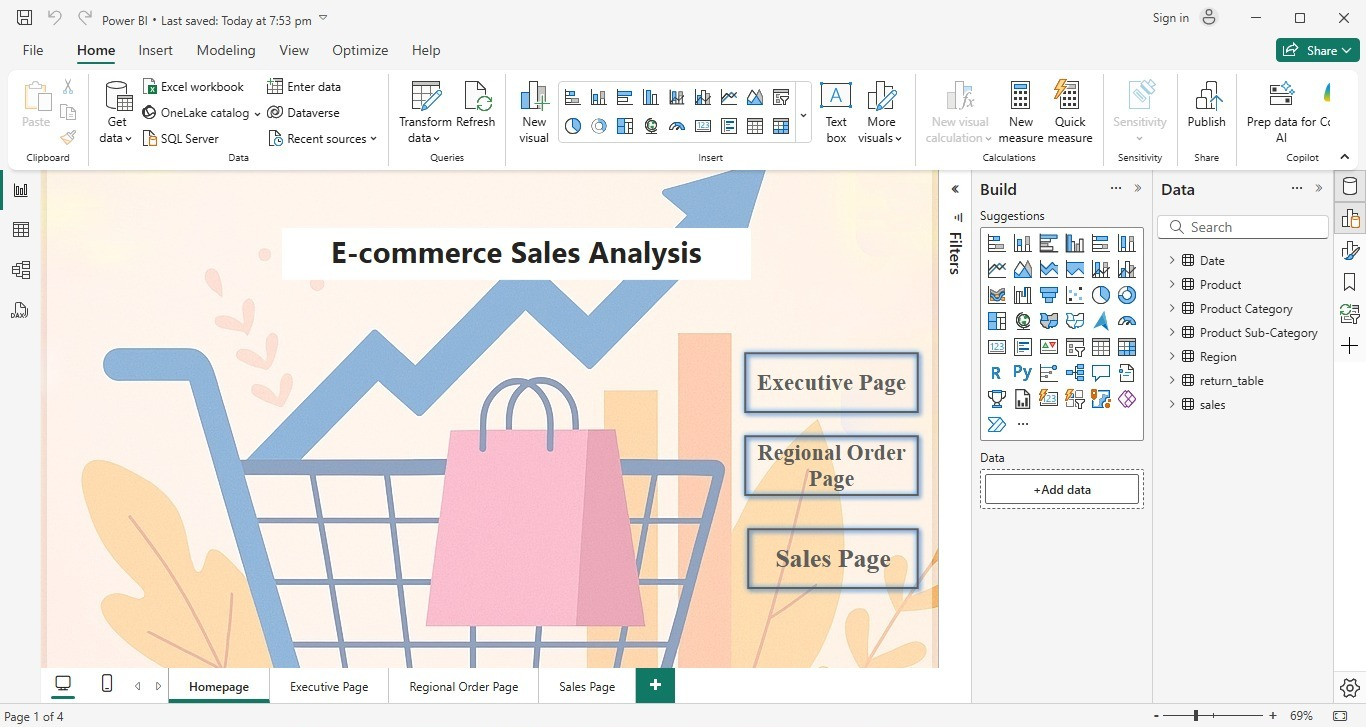

The page's visual inventory and layout, read from the dashboard file:
{"tool":"powerbi","page":{"name":"Homepage","canvas":[1280,720],"ordinal":0},"visuals":[{"type":"textbox","box":[339.7,84,677.5,75.1],"z":0},{"type":"actionButton","box":[999.2,254.2,270.4,105.8],"z":1000},{"type":"actionButton","box":[999.2,374.7,270.4,105.8],"z":2000},{"type":"actionButton","box":[1003.6,508.4,266,105.8],"z":3000}]}

Visuals, with their boxes on the page's 1280x720 design canvas (x1, y1, x2, y2). These are canvas units, not pixel positions in the 1366x727 screenshot, which may show the page scaled, cropped or inside an application window:
textbox: {"x1": 340, "y1": 84, "x2": 1017, "y2": 159}
actionButton: {"x1": 999, "y1": 254, "x2": 1270, "y2": 360}
actionButton: {"x1": 999, "y1": 375, "x2": 1270, "y2": 480}
actionButton: {"x1": 1004, "y1": 508, "x2": 1270, "y2": 614}
